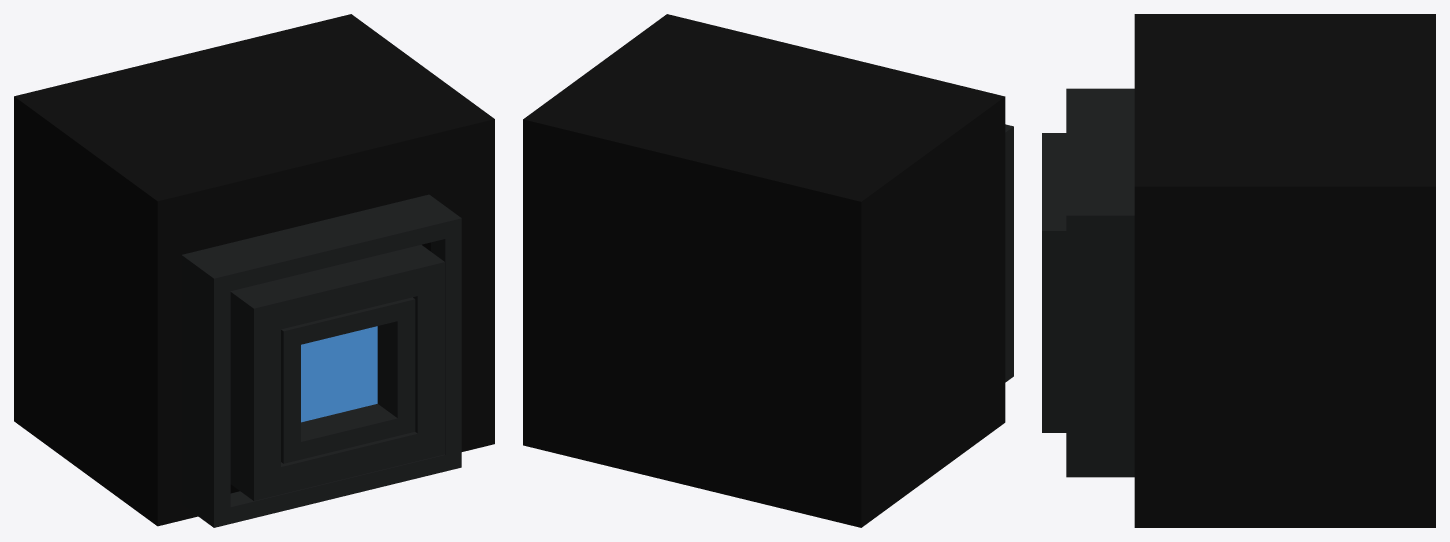
Rendered from Up_Receptor.fbx.
3 views of the same model, side by side, from view 1: azimuth 30°, elevation 25°; view 2: azimuth 150°, elevation 25°; view 3: azimuth 270°, elevation 25° (orthographic). The views are drawn at different scales.
Parts seen in each view (by area): view 1: Up_Receptor; view 2: Up_Receptor; view 3: Up_Receptor.
Boxes of the visible parts, x1=… form: Up_Receptor: x1=14, y1=14, x2=494, y2=527; Up_Receptor: x1=523, y1=14, x2=1013, y2=527; Up_Receptor: x1=1042, y1=14, x2=1435, y2=527.
Size of the model in its own units: 13.26 by 12.21 by 12.77.
